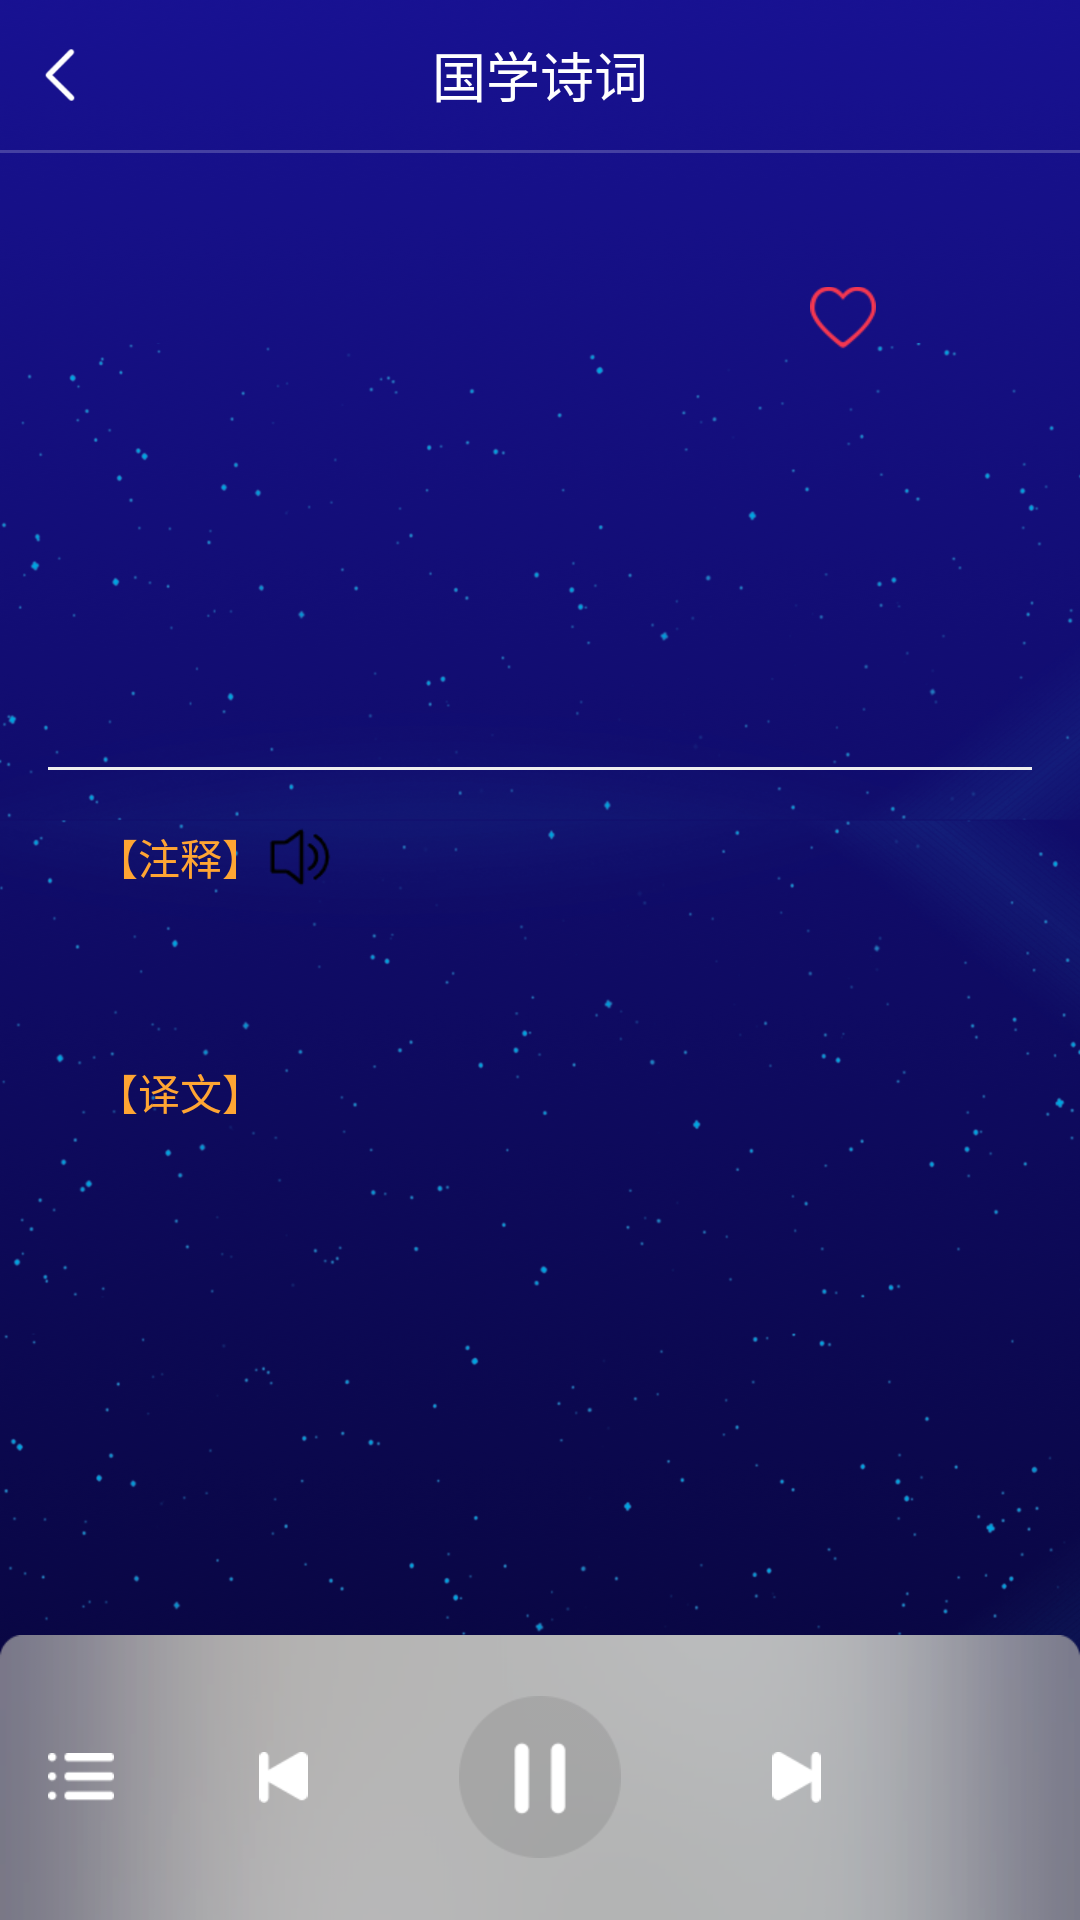

Icons on this 1080 × 1920 Android screen, each with the point to tap as (x=x, y=y):
back: (x=60, y=75)
collect false: (x=843, y=318)
notes voice: (x=300, y=857)
poem left: (x=283, y=1777)
poem list: (x=81, y=1777)
poem right: (x=796, y=1777)
poem stop: (x=540, y=1778)
